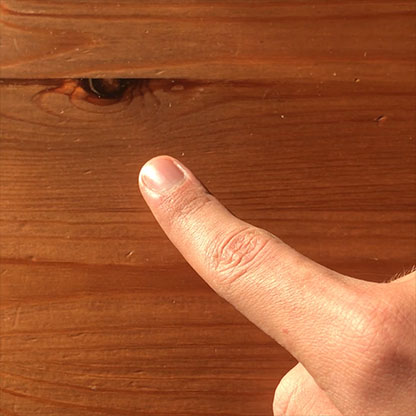fingertip: (133, 151, 212, 216)
